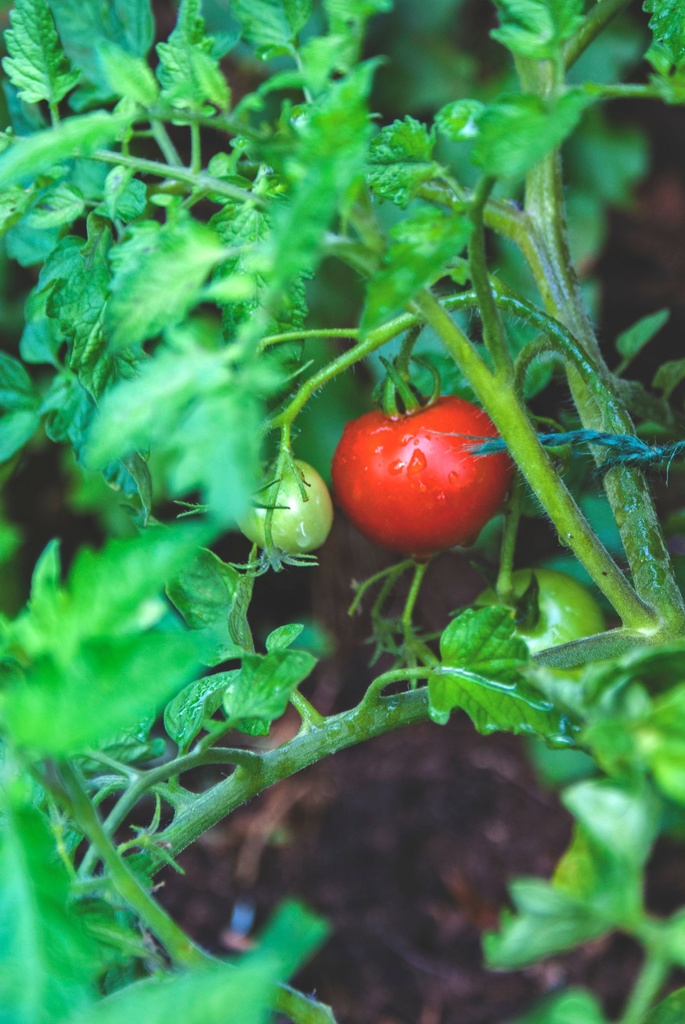Tomato: (333, 357, 519, 558), (236, 449, 338, 554)
